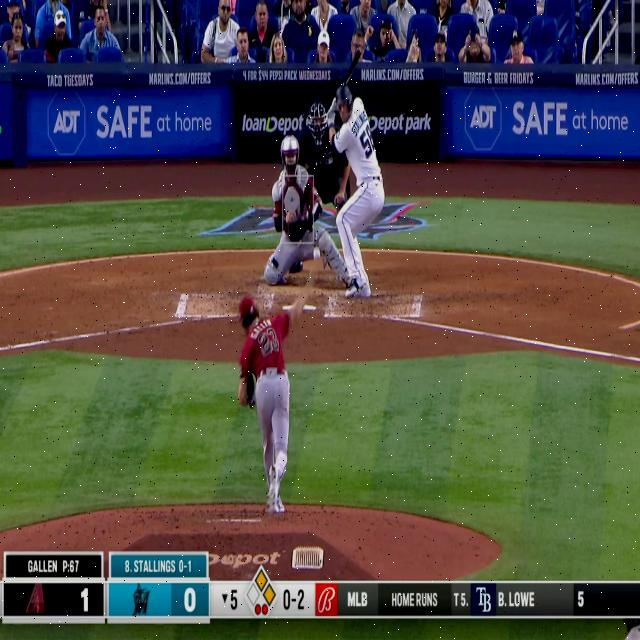baseball: (312, 246, 321, 262)
